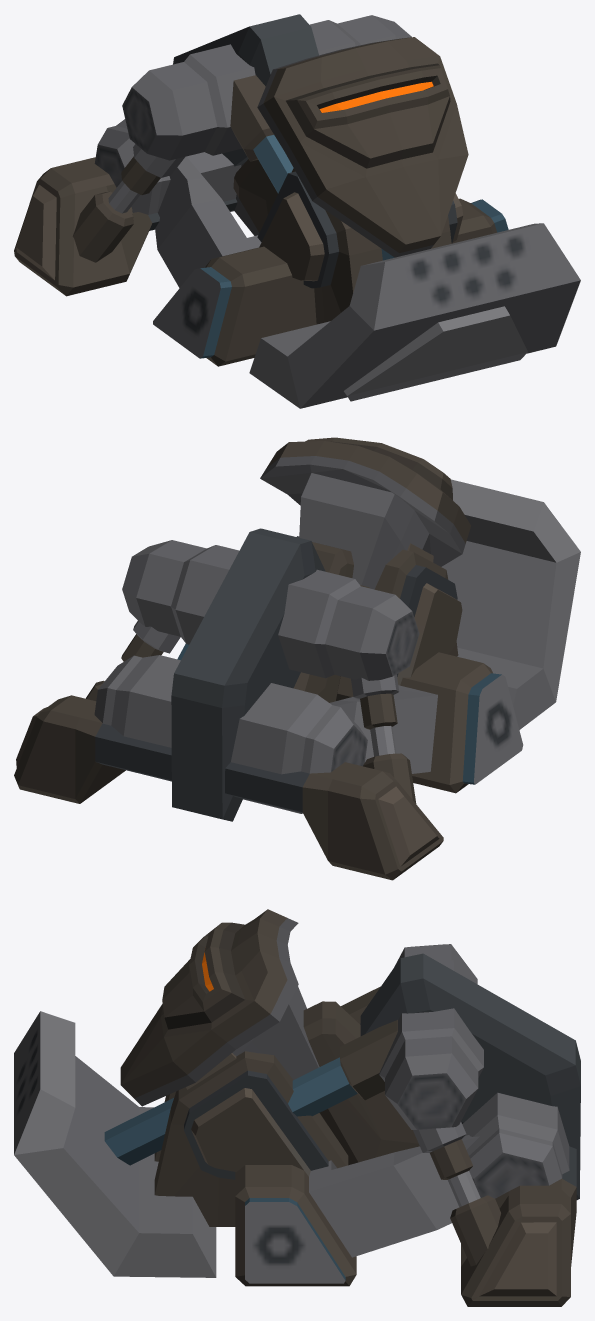
Rendered from SM_Mech_Foot_01_Armor_Toes_05.fbx.
The picture shows the model from 3 angles, top to bottom: view 1: azimuth 30°, elevation 25°; view 2: azimuth 150°, elevation 25°; view 3: azimuth 270°, elevation 25°; orthographic projection.
Visible parts, largest first — view 1: SM_Mech_Foot_01_Armor_Toes_05; view 2: SM_Mech_Foot_01_Armor_Toes_05; view 3: SM_Mech_Foot_01_Armor_Toes_05.
Part boxes in pixels (<box>): SM_Mech_Foot_01_Armor_Toes_05: <box>14,14,580,408</box>; SM_Mech_Foot_01_Armor_Toes_05: <box>14,437,580,880</box>; SM_Mech_Foot_01_Armor_Toes_05: <box>14,909,580,1306</box>.
Size of the model in its own units: 78.38 by 52.95 by 96.57.
